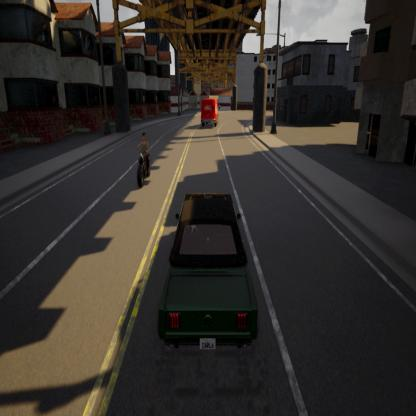Cars: (154, 188, 268, 363), (195, 94, 222, 130)
